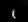person: (12, 8, 18, 21)
